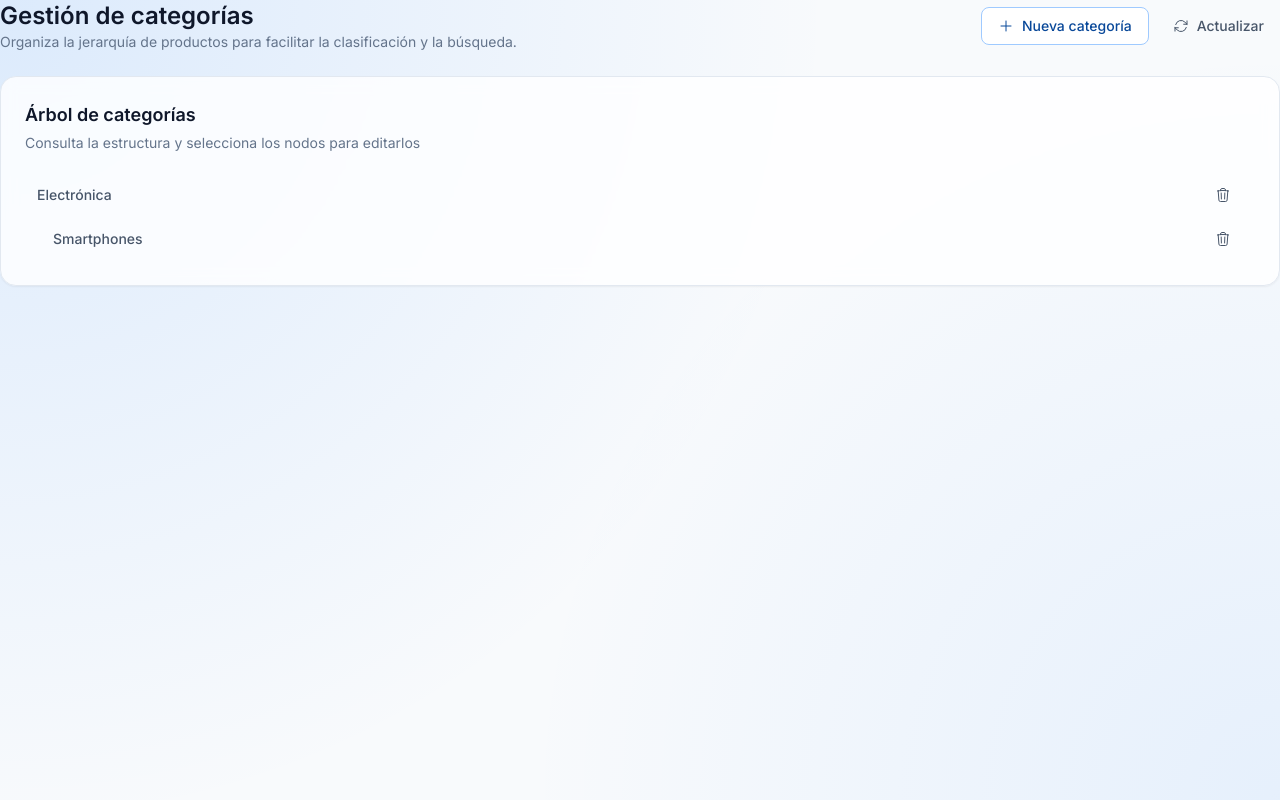
Scenario: CategoriesPage › allows editing an existing category and keeps the selection
Step 1. Click the button "Smartphones" → point(98, 238), box [53,229,1203,249]
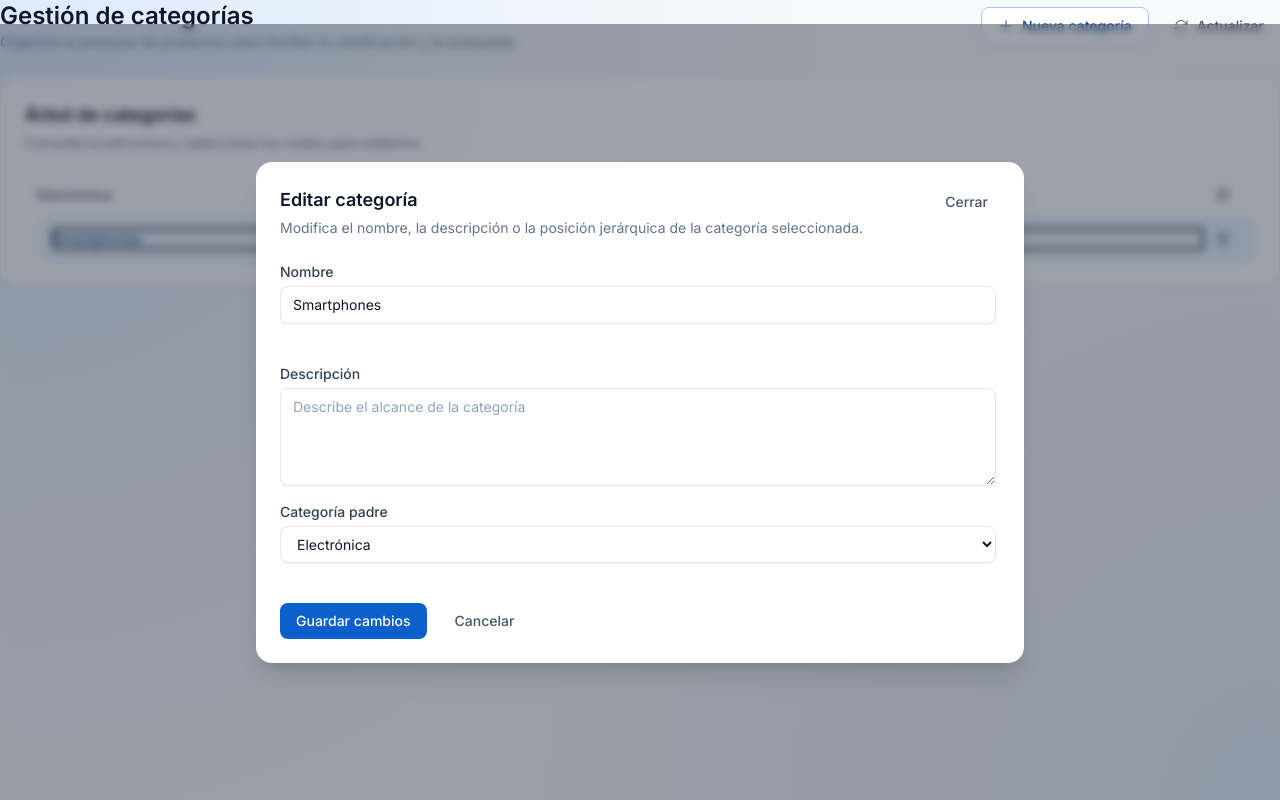
Now the field labelled "Nombre" holds "Smartphones"
Now the dropdown labelled "Categoría padre" shows "Electrónica", box [280,526,996,562]
Step 2. Replace the text in the field labelled "Nombre" with "Teléfonos" → point(638, 304), box [280,286,996,324]
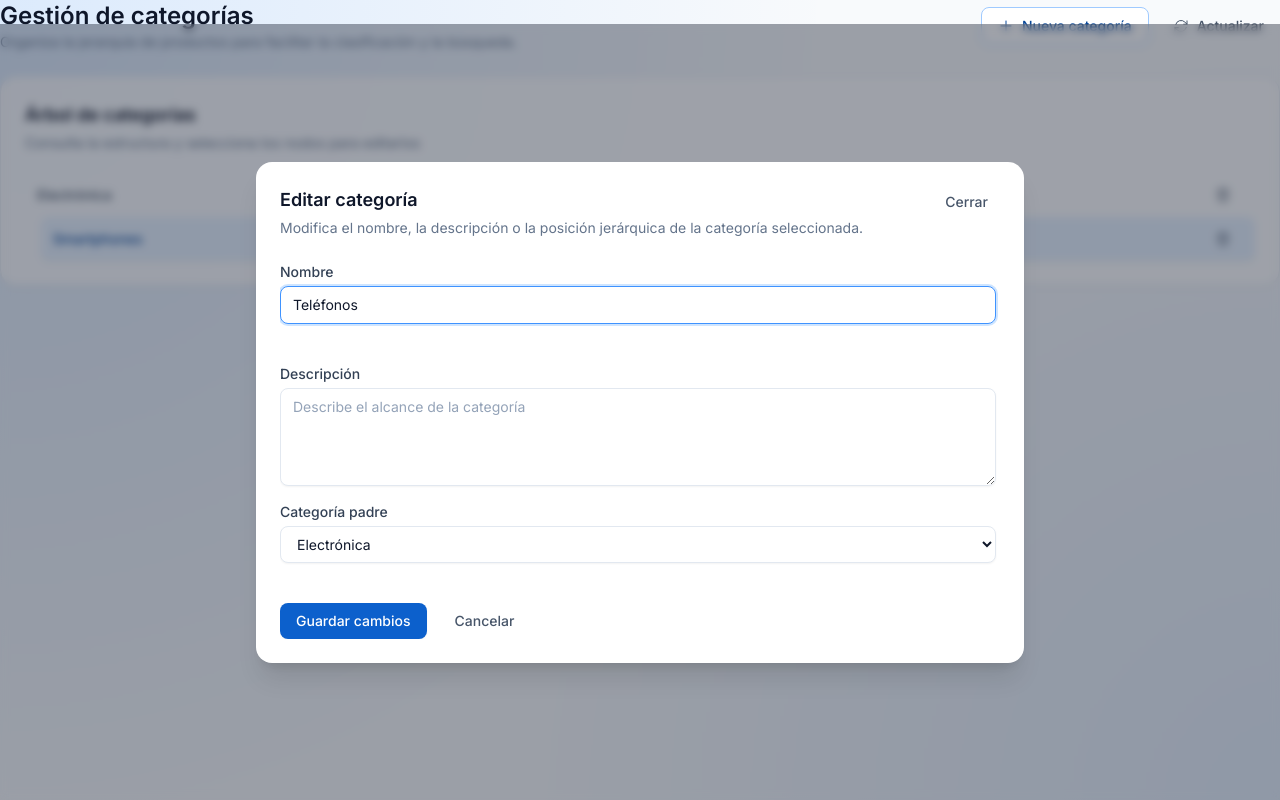
Step 3. Type "Dispositivos móviles" into the text box labelled "Descripción" → point(638, 436), box [280,388,996,486]
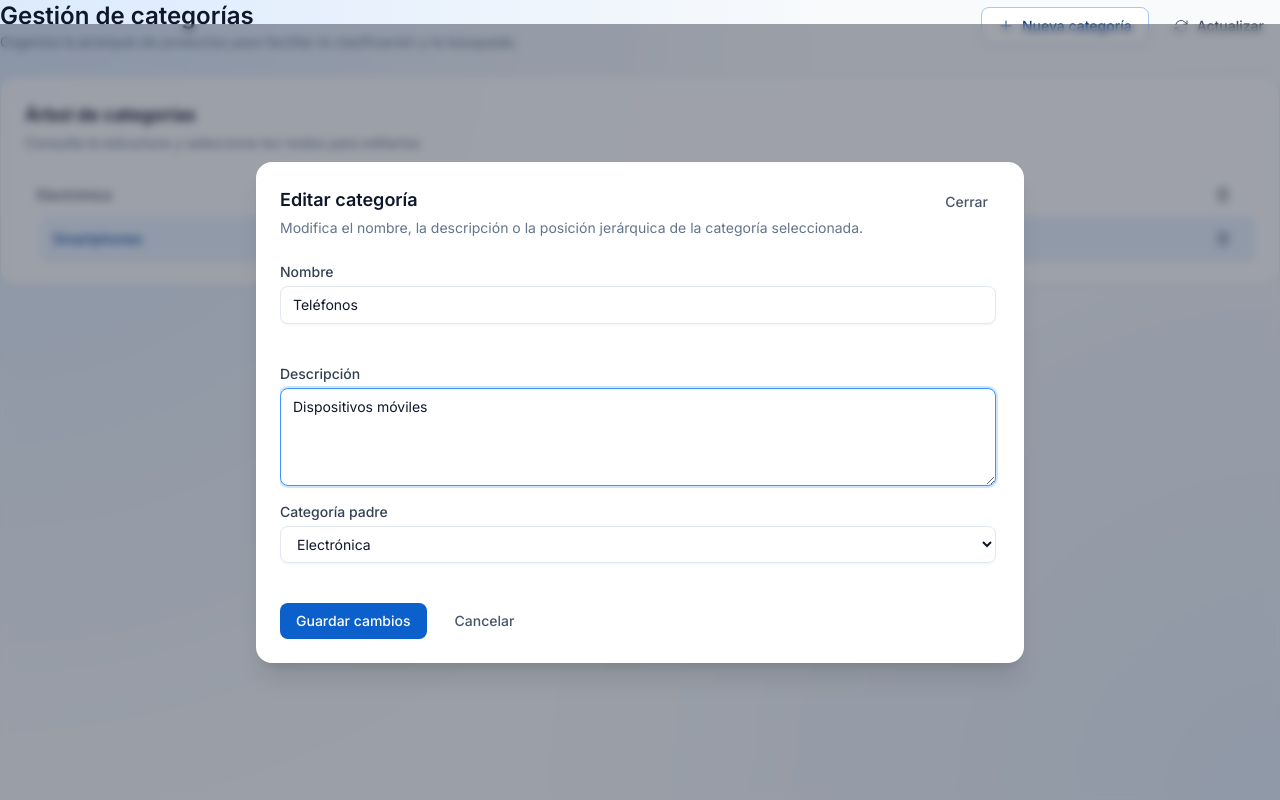
Step 4. Click the button "Guardar cambios" → point(353, 620), box [280,602,426,638]
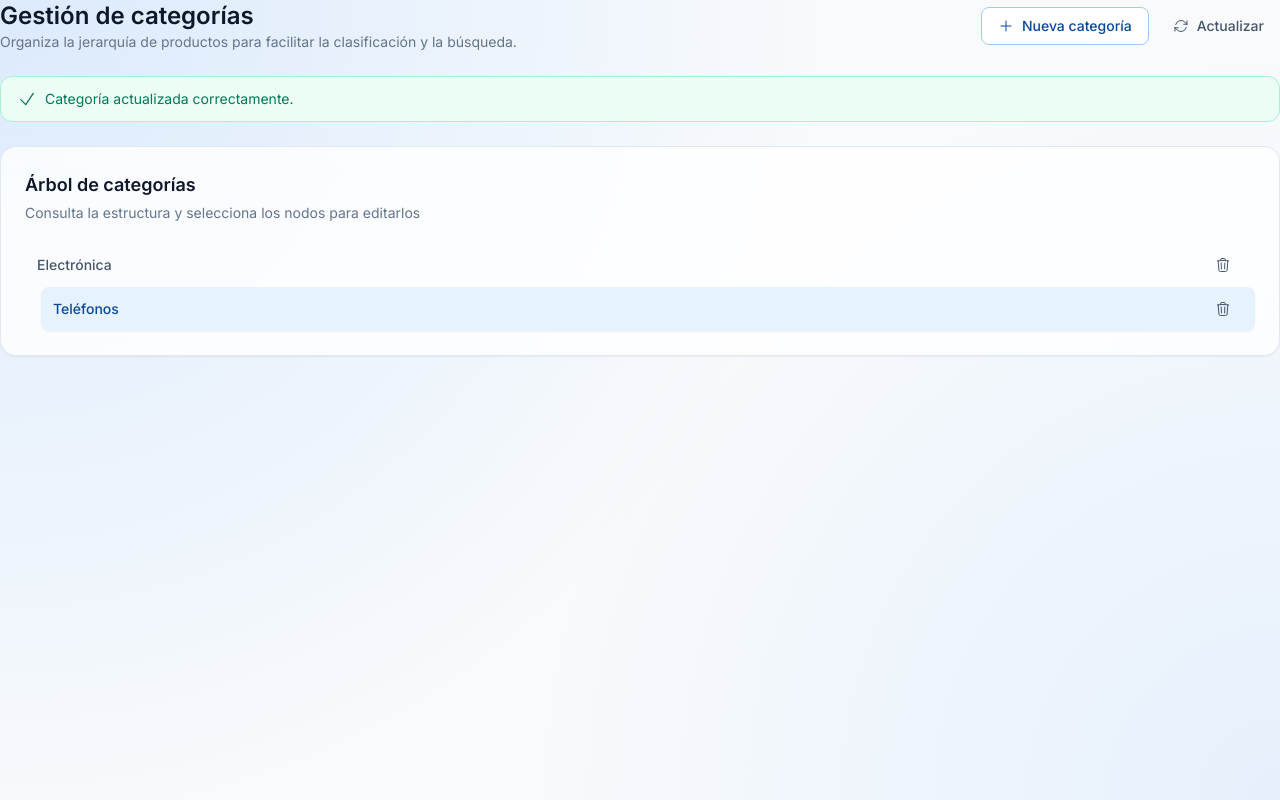
Now the text "Categoría actualizada correctamente." is shown, box [45,89,294,109]
Now the button "Teléfonos" is shown, box [53,299,1203,319]
